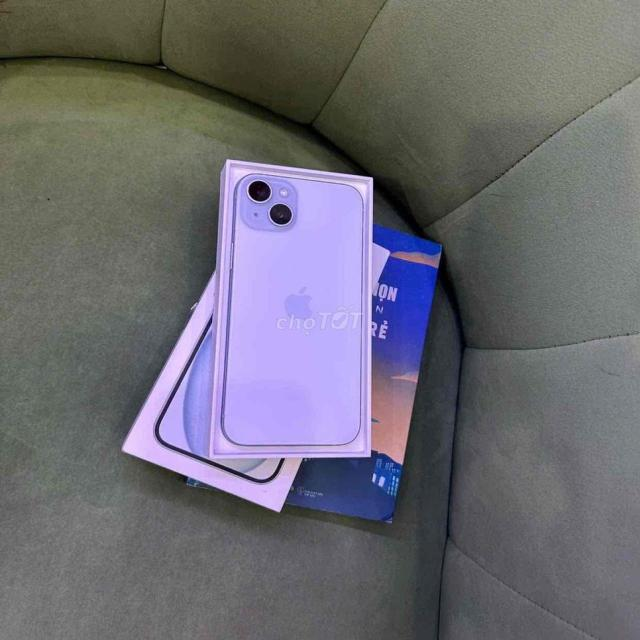gen_15: (202, 134, 374, 475)
